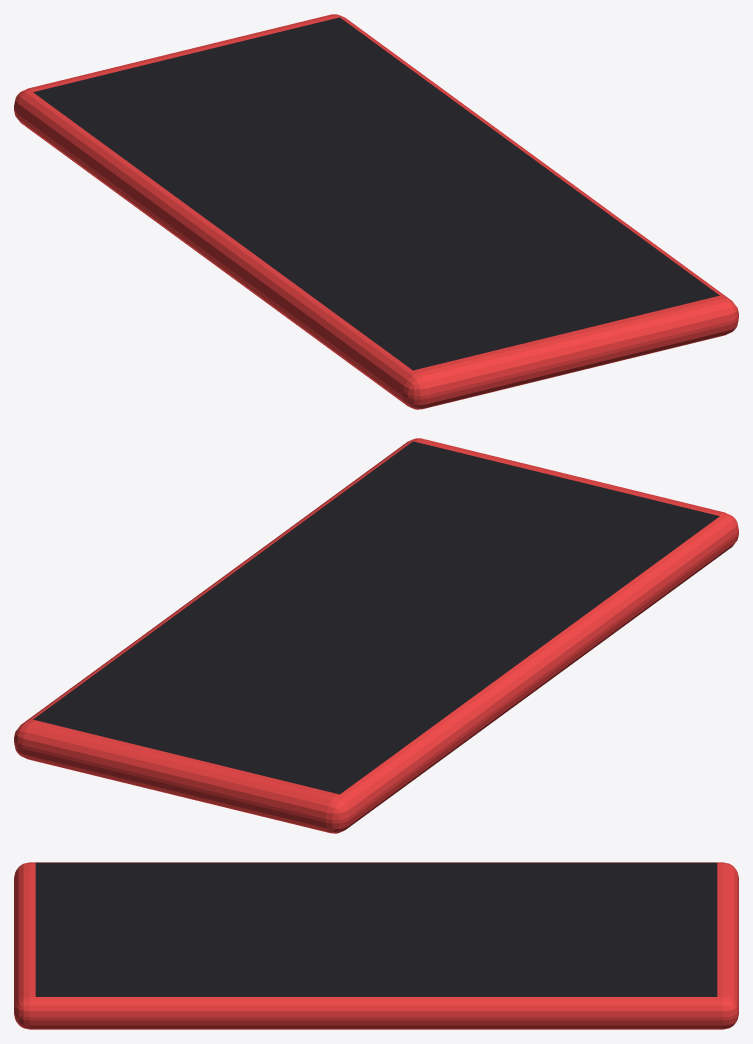
File: Phone_980.glb
3 views of the same model, one above another, from view 1: azimuth 30°, elevation 25°; view 2: azimuth 150°, elevation 25°; view 3: azimuth 270°, elevation 25° (orthographic). The views are drawn at different scales.
Visible parts, largest first — view 1: Phone_Screen, Phone_Body; view 2: Phone_Screen, Phone_Body; view 3: Phone_Screen, Phone_Body.
Part boxes in pixels (x1,y1,x2,y2): Phone_Screen: (33,17,719,370); Phone_Body: (14,14,738,409); Phone_Screen: (33,441,719,794); Phone_Body: (14,438,738,833); Phone_Screen: (35,862,717,996); Phone_Body: (14,862,738,1029).
Size of the model in its own units: 0.0764 by 0.0078 by 0.1604.
